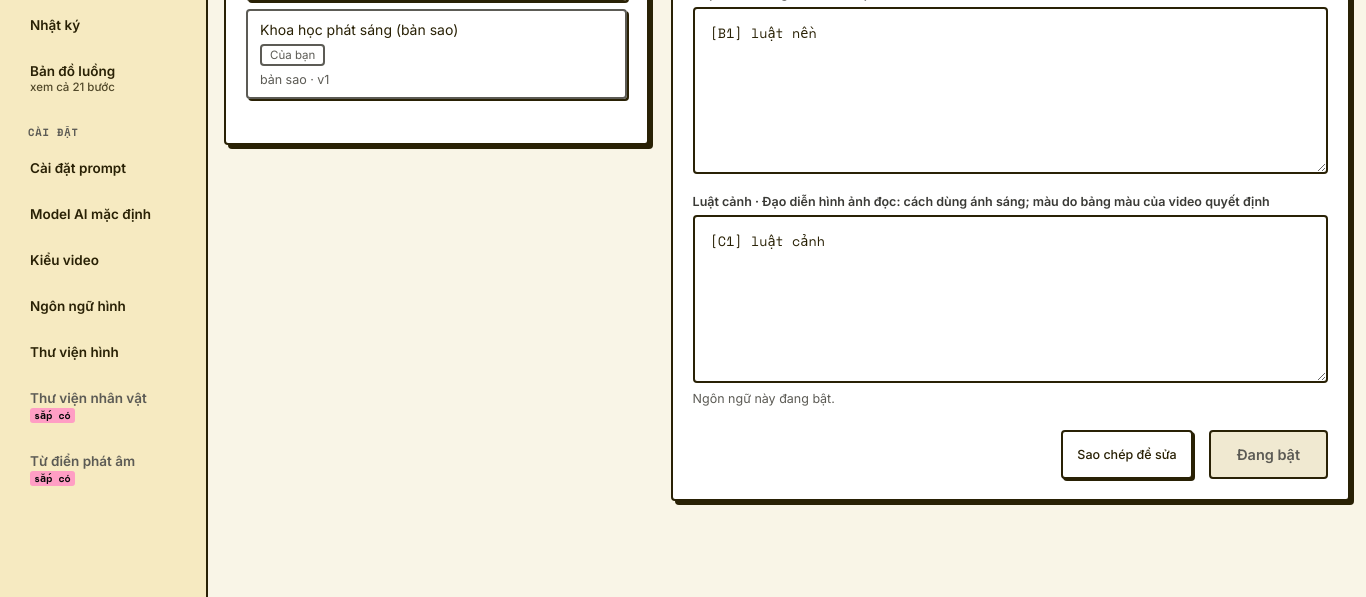
Test: VisualLanguagePage › sao chép tạo bản của bạn và chọn nó
(page scrolled)
Step 1. Click the button with test id "language-copy" → {"x": 1127, "y": 454}, box [1061,430,1193,479]
(page scrolled)
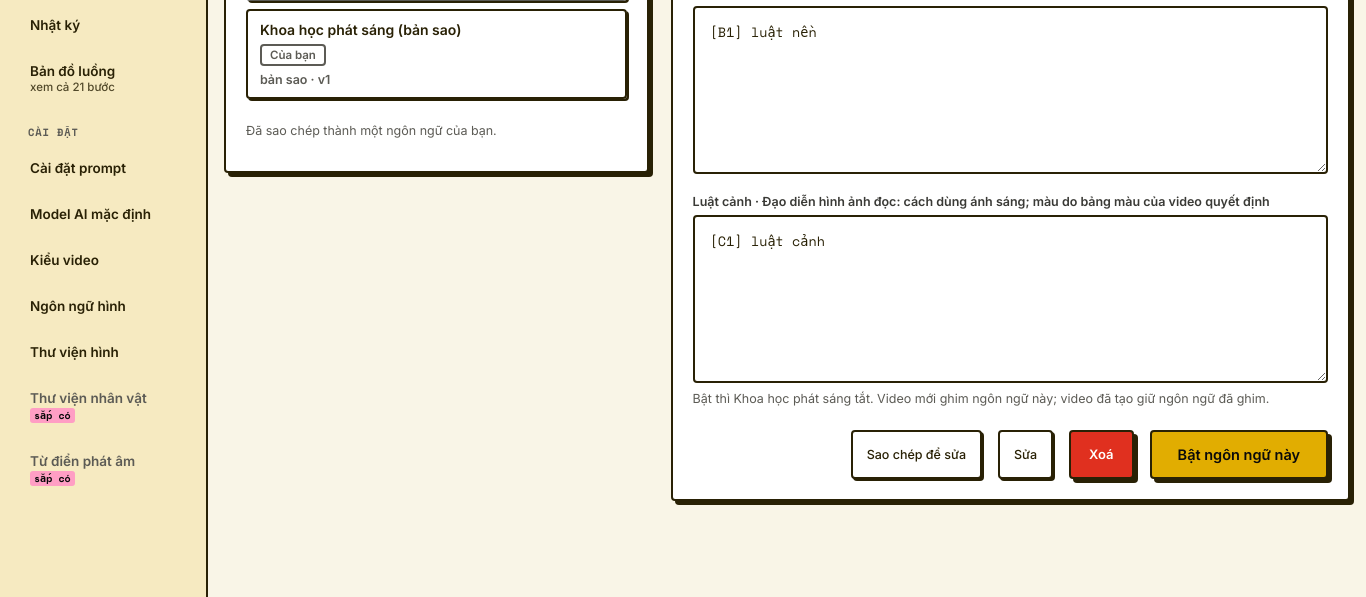
Expected: the message with test id "language-status" shows "Đã sao chép", [246,123,497,138]
